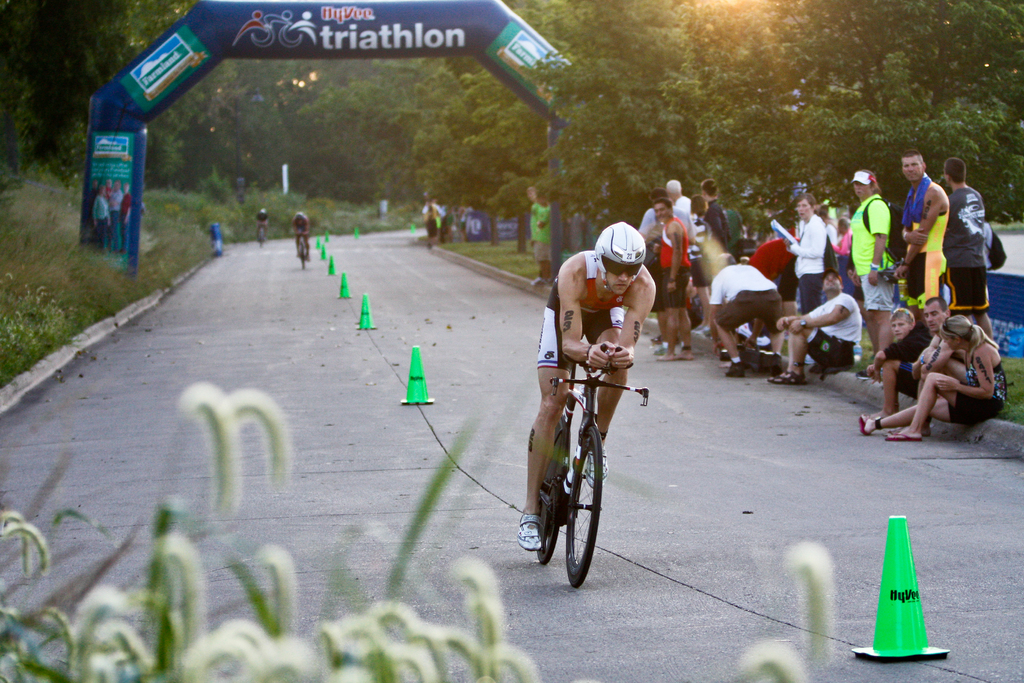Bike: (531, 366, 652, 579)
